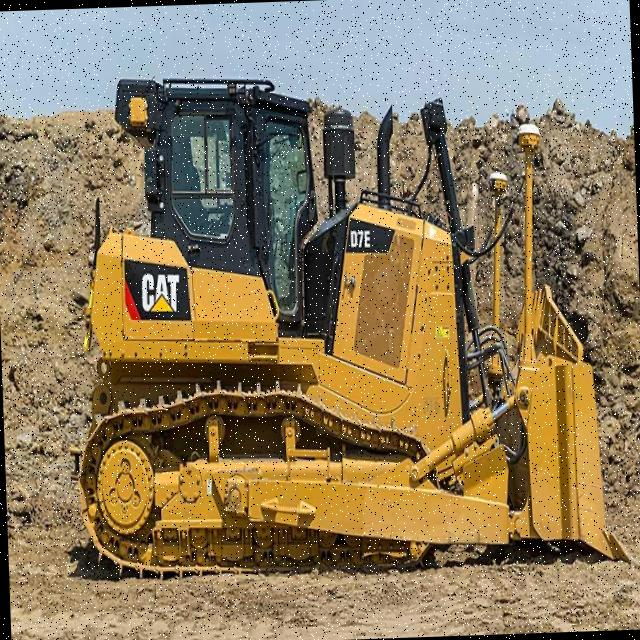Bulldozer: (45, 26, 640, 610)
